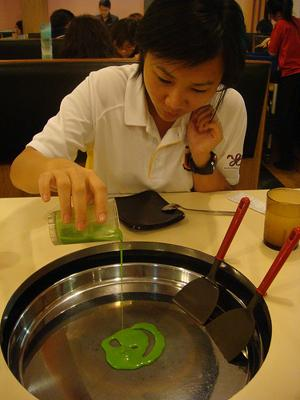person: (10, 2, 247, 235)
